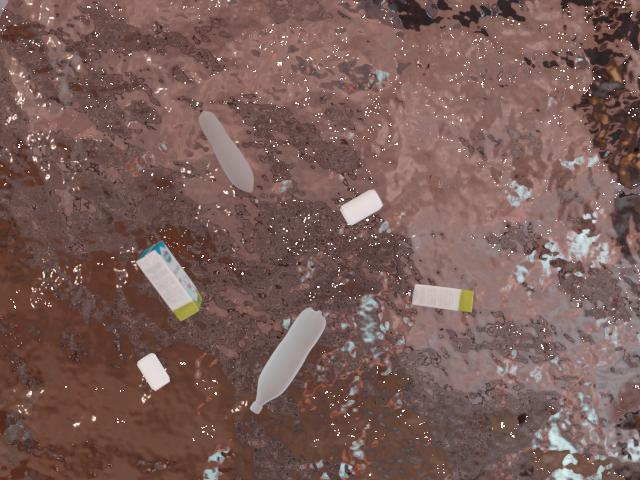Metal: (338, 182, 385, 235), (134, 347, 174, 401)
Plastic: (242, 301, 329, 420), (194, 99, 263, 205)
Trash: (128, 236, 213, 325), (403, 266, 494, 336)
